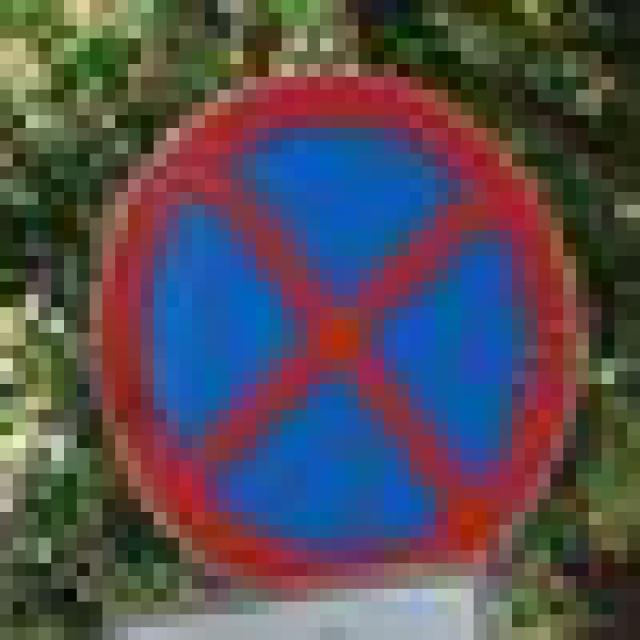no_parking: (77, 64, 576, 589)
